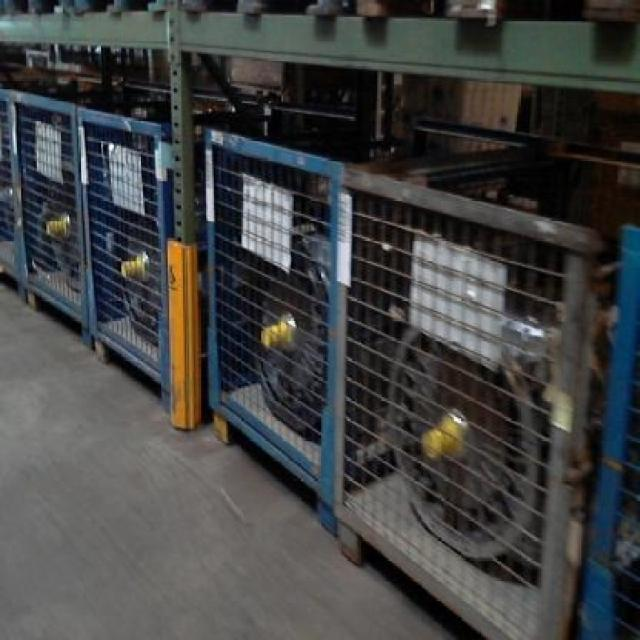pallets: (203, 128, 348, 529), (75, 108, 198, 426), (575, 225, 637, 637), (0, 88, 89, 338)
